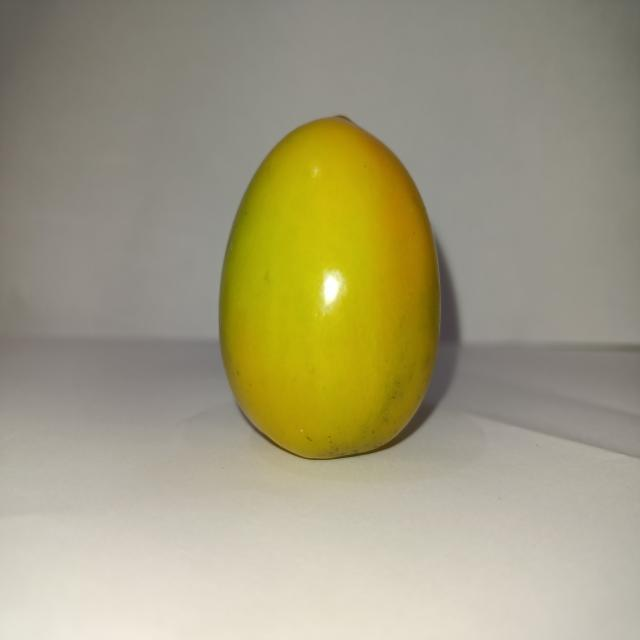Red: (216, 113, 442, 460)
